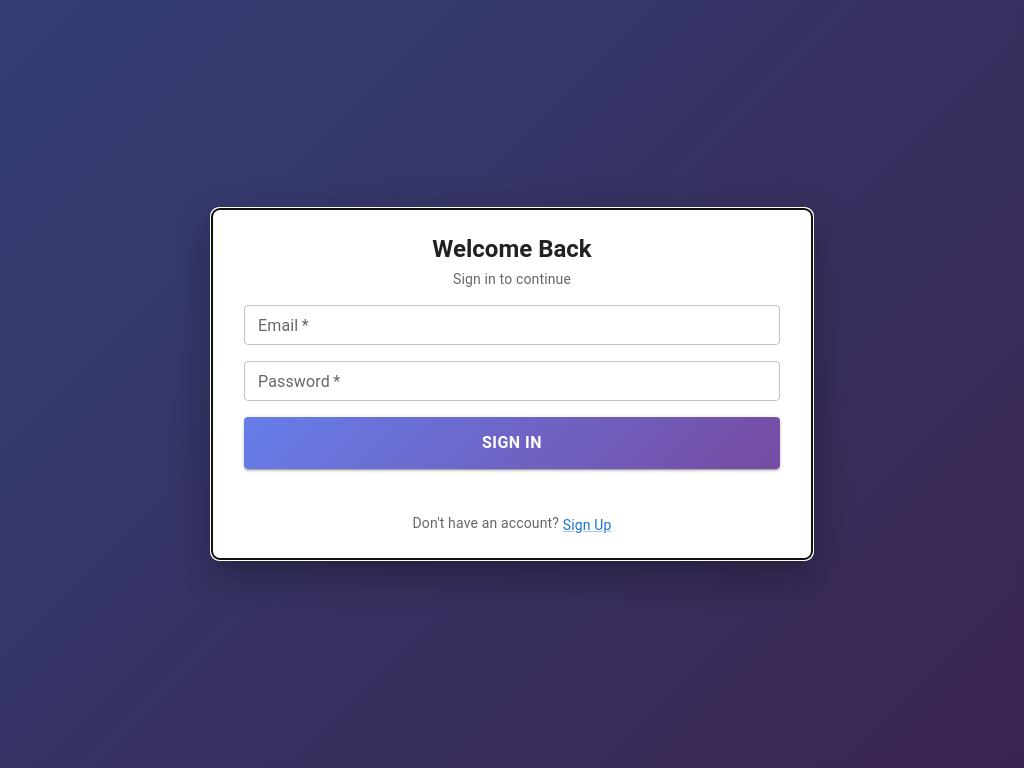
AuthModal › Register Functionality › should switch to register mode
The image size is (1024, 768).
Click the button "Sign Up" at {"x": 587, "y": 525}, box top-left (563, 515), bottom-right (612, 535)
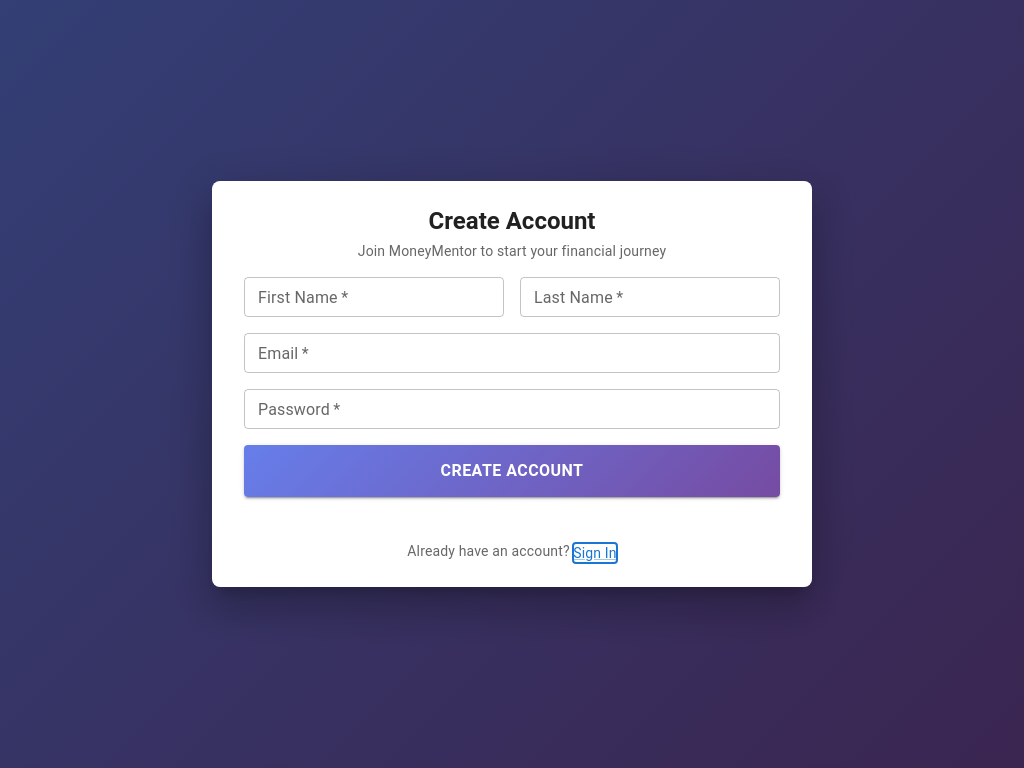
Expected: the heading "Create Account" is shown, top-left (428, 207), bottom-right (595, 235)
Expected: the text "Join MoneyMentor to start your financial journey" is shown, top-left (358, 243), bottom-right (666, 259)
Expected: the field labelled "First Name *" is shown, top-left (244, 277), bottom-right (504, 317)
